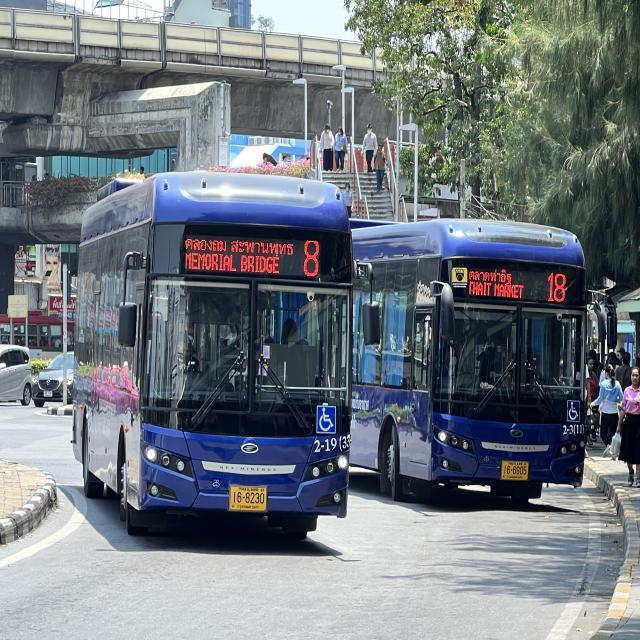Bus-Line-Number: (543, 266, 573, 308), (298, 236, 325, 282)
Destination-Sign-Normal: (179, 236, 296, 282), (465, 264, 529, 302)
TSB-Bus: (73, 170, 355, 538), (348, 220, 590, 503)
